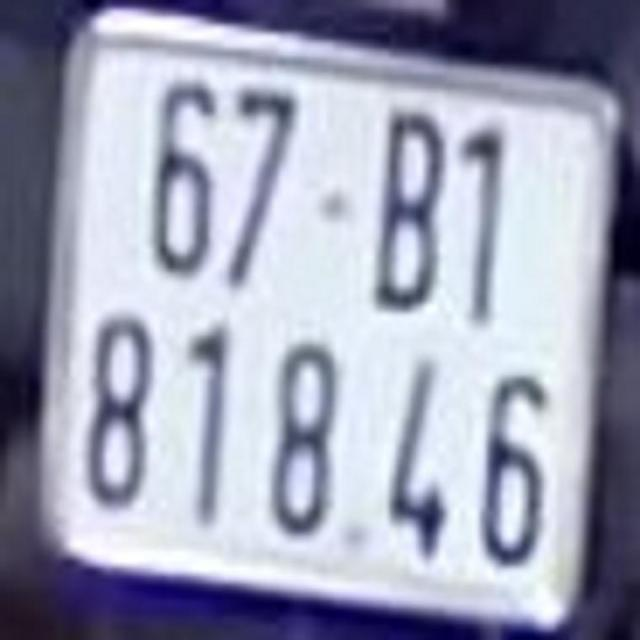1: (458, 128, 507, 324), (186, 323, 227, 519)
4: (393, 370, 448, 565)
6: (152, 74, 220, 285), (484, 371, 552, 575)
7: (228, 76, 296, 282)
8: (82, 314, 156, 511), (264, 338, 334, 540)
B: (383, 96, 445, 317)
